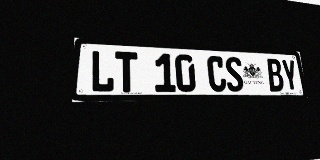0: (174, 54, 196, 92)
1: (154, 53, 176, 92)
B: (266, 58, 285, 91)
C: (206, 56, 227, 92)
L: (90, 50, 114, 92)
S: (224, 56, 244, 92)
T: (115, 51, 138, 92)
Y: (280, 59, 299, 91)
